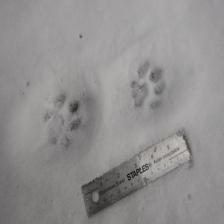lynx: (39, 91, 86, 155), (125, 63, 168, 112)
